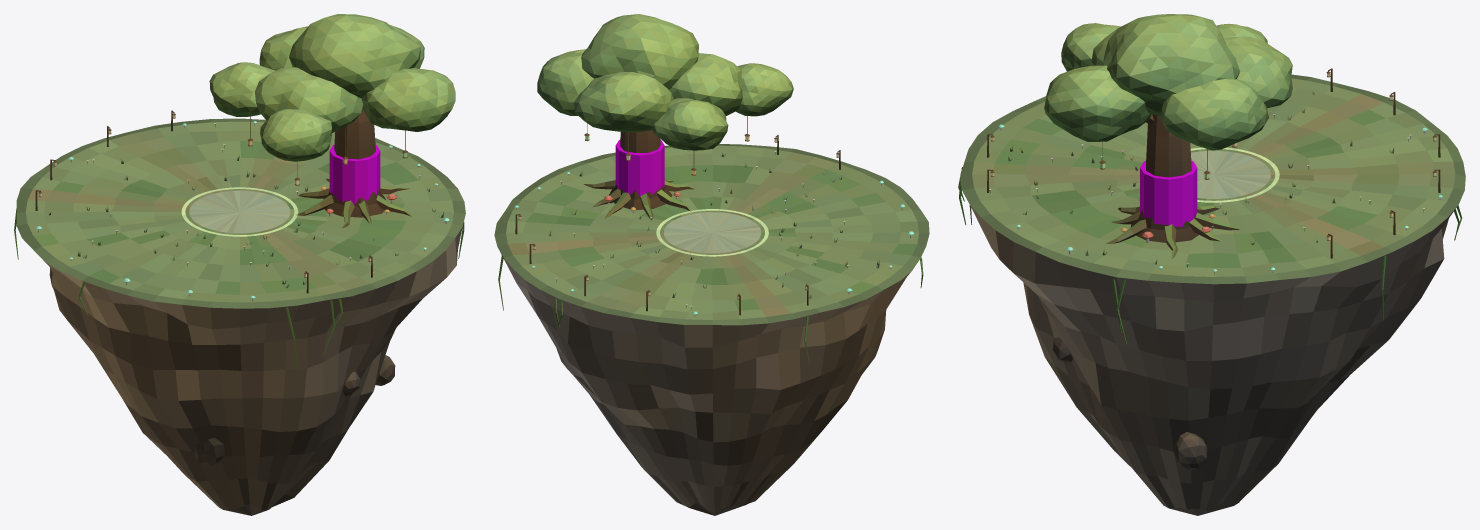
The model's file is isle_home_leaf.glb.
3 renders of one model, left to right at view 1: azimuth 30°, elevation 25°; view 2: azimuth 150°, elevation 25°; view 3: azimuth 270°, elevation 25°, orthographic. The views are drawn at different scales.
Visible parts, largest first — view 1: isle_home_leaf, col_trunk; view 2: isle_home_leaf, col_trunk; view 3: isle_home_leaf, col_trunk.
Boxes of the visible parts, x1,y1,x2,y2 form: isle_home_leaf: (14, 14, 465, 515); col_trunk: (329, 144, 380, 204); isle_home_leaf: (494, 14, 929, 515); col_trunk: (615, 140, 664, 196); isle_home_leaf: (958, 14, 1465, 515); col_trunk: (1140, 160, 1197, 226).
Size of the model in its own units: 46.25 by 54.54 by 46.21.
